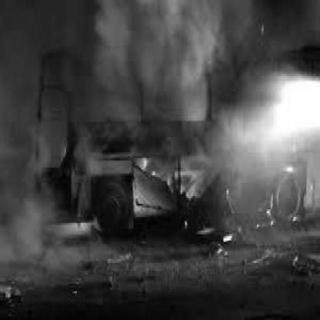Fire: (109, 135, 225, 223)
